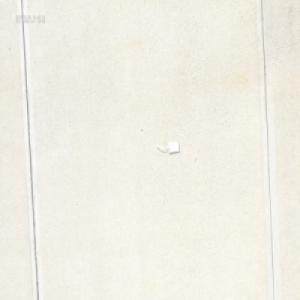LuggageTag: (154, 139, 180, 155)
